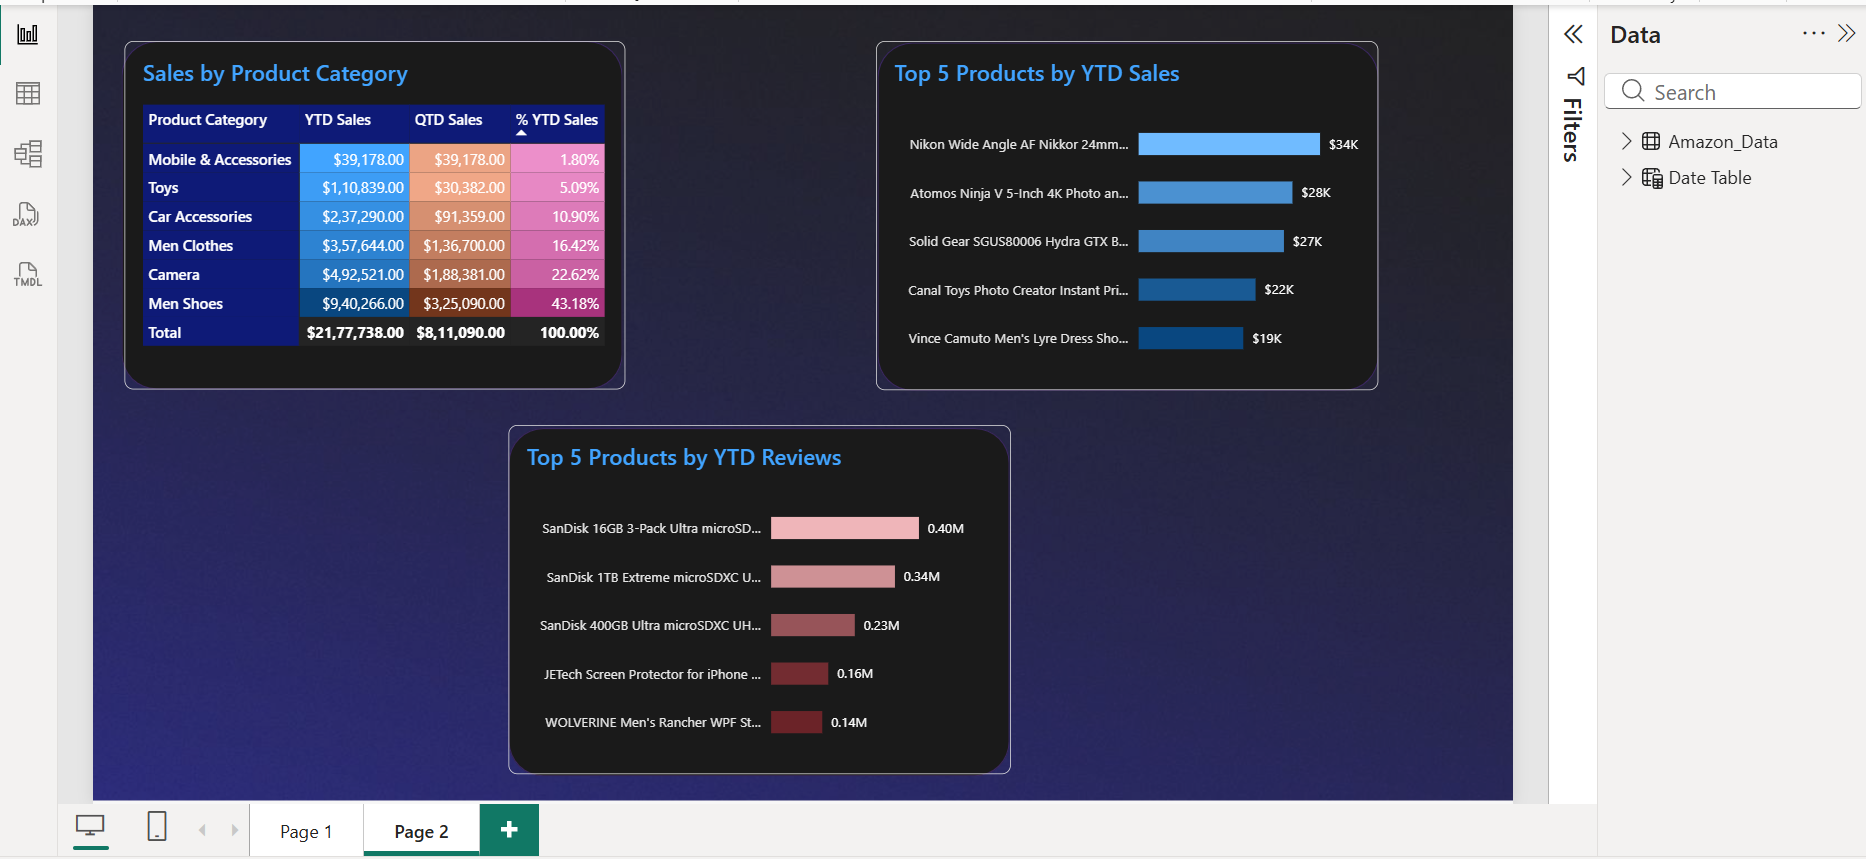

Layout of this report page (visuals, bound fields, positions):
{"tool":"powerbi","page":{"name":"Page 2","canvas":[1280,720],"ordinal":1},"visuals":[{"type":"shape","box":[26.3,32.4,451.6,313.9],"z":0},{"type":"pivotTable","title":"Sales by Product Category","fields":{"Rows":["Amazon_Data.Product Category"],"Values":["Amazon_Data.YTD Sales1","Amazon_Data.QTD Sales","Amazon_Data.YTD Sales"]},"box":[28.4,32.4,451.6,313.9],"z":1000},{"type":"shape","box":[706.8,34.4,451.6,313.9],"z":2000},{"type":"shape","box":[374.7,380.8,451.6,313.9],"z":3000},{"type":"clusteredBarChart","title":"Top 5 Products by YTD Sales","fields":{"Category":["Amazon_Data.Product Description"],"Y":["Amazon_Data.YTD Sales"]},"box":[706.2,33.1,452.4,314.5],"z":4000},{"type":"clusteredBarChart","title":"Top 5 Products by YTD Reviews","fields":{"Category":["Amazon_Data.Product Description"],"Y":["Amazon_Data.YTD Reviews"]},"box":[374.7,378.7,452.4,314.5],"z":5000}]}

Visuals, with their boxes on the page's 1280x720 design canvas (x1, y1, x2, y2). These are canvas units, not pixel positions in the 1866x859 screenshot, which may show the page scaled, cropped or inside an application window:
shape: <box>26,32,478,346</box>
"Sales by Product Category" pivotTable: <box>28,32,480,346</box>
shape: <box>707,34,1158,348</box>
shape: <box>375,381,826,695</box>
"Top 5 Products by YTD Sales" clusteredBarChart: <box>706,33,1159,348</box>
"Top 5 Products by YTD Reviews" clusteredBarChart: <box>375,379,827,693</box>
